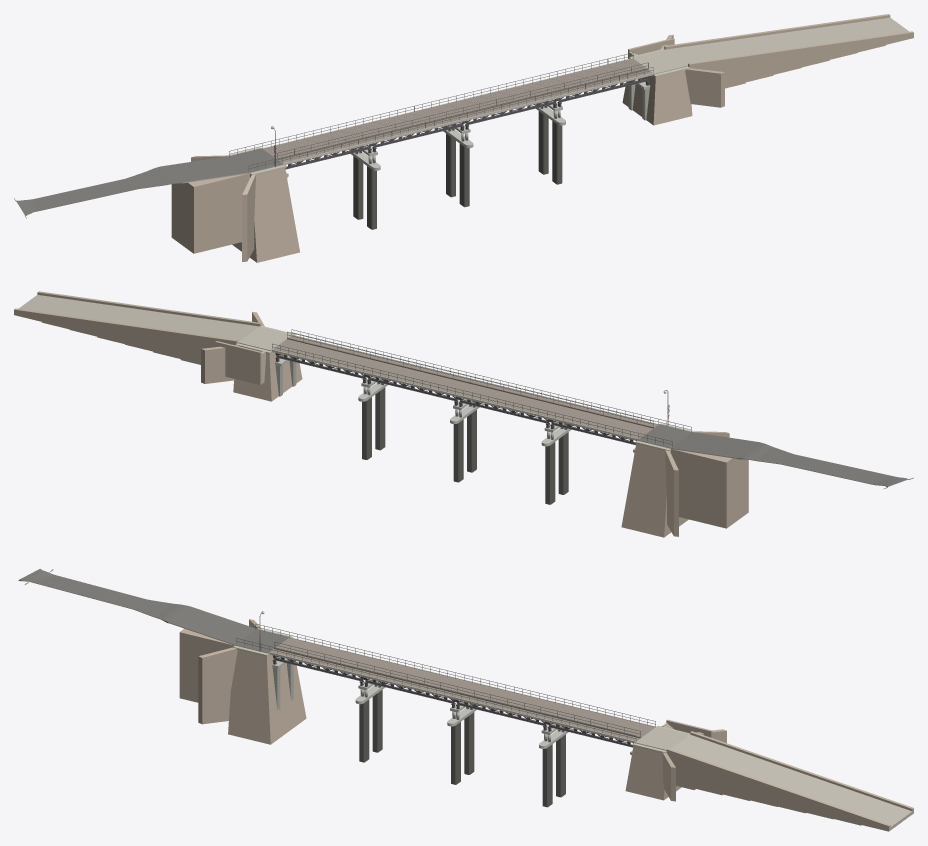
File: pont_segre.glb
3 renders of one model, top to bottom at view 1: azimuth 30°, elevation 25°; view 2: azimuth 150°, elevation 25°; view 3: azimuth 330°, elevation 25°, orthographic.
Parts seen in each view (by area): view 1: PontSegre_Estribos, PontSegre_Tablero_tablones, PontSegre_Acceso_della_muros, PontSegre_Acceso_della, PontSegre_Pilas_cajones, PontSegre_Barandillas, HIP_PontSegre_acceso_recto_T, PontSegre_Acceso_pueblo, PontSegre_Tablero_borde, PontSegre_Celosia_cordones, PontSegre_Tablero_bordillo, PontSegre_Pilas_losas; view 2: PontSegre_Estribos, PontSegre_Tablero_tablones, PontSegre_Acceso_della_muros, PontSegre_Acceso_della, PontSegre_Pilas_cajones, PontSegre_Barandillas, HIP_PontSegre_acceso_recto_T, PontSegre_Acceso_pueblo, PontSegre_Tablero_borde, PontSegre_Celosia_cordones, PontSegre_Tablero_bordillo, PontSegre_Pilas_losas; view 3: PontSegre_Estribos, PontSegre_Tablero_tablones, PontSegre_Acceso_della_muros, PontSegre_Acceso_della, PontSegre_Pilas_cajones, PontSegre_Barandillas, PontSegre_Acceso_pueblo, HIP_PontSegre_acceso_recto_T, PontSegre_Tablero_borde, PontSegre_Celosia_cordones, PontSegre_Tablero_bordillo, PontSegre_Pilas_losas.
Part boxes in pixels (box(x1,y1,x2,y2)): PontSegre_Estribos: box(171, 34, 724, 262); PontSegre_Tablero_tablones: box(263, 58, 652, 162); PontSegre_Acceso_della_muros: box(628, 14, 913, 88); PontSegre_Acceso_della: box(632, 17, 908, 74); PontSegre_Pilas_cajones: box(353, 111, 562, 229); PontSegre_Barandillas: box(229, 52, 653, 171); HIP_PontSegre_acceso_recto_T: box(16, 166, 182, 214); PontSegre_Acceso_pueblo: box(161, 148, 283, 183); PontSegre_Tablero_borde: box(263, 58, 653, 164); PontSegre_Celosia_cordones: box(285, 78, 648, 169); PontSegre_Tablero_bordillo: box(277, 68, 648, 160); PontSegre_Pilas_losas: box(350, 104, 565, 170); PontSegre_Estribos: box(201, 311, 748, 537); PontSegre_Tablero_tablones: box(273, 335, 657, 438); PontSegre_Acceso_della_muros: box(14, 291, 261, 385); PontSegre_Acceso_della: box(18, 295, 292, 350); PontSegre_Pilas_cajones: box(362, 387, 568, 504); PontSegre_Barandillas: box(272, 329, 691, 446); HIP_PontSegre_acceso_recto_T: box(738, 442, 908, 486); PontSegre_Acceso_pueblo: box(637, 424, 759, 458); PontSegre_Tablero_borde: box(271, 334, 658, 440); PontSegre_Celosia_cordones: box(276, 355, 635, 444); PontSegre_Tablero_bordillo: box(287, 337, 653, 428); PontSegre_Pilas_losas: box(358, 380, 572, 446); PontSegre_Estribos: box(179, 619, 726, 801); PontSegre_Tablero_tablones: box(270, 638, 655, 741); PontSegre_Acceso_della_muros: box(666, 719, 913, 831); PontSegre_Acceso_della: box(635, 726, 912, 829); PontSegre_Pilas_cajones: box(359, 690, 565, 807); PontSegre_Barandillas: box(236, 624, 655, 741); PontSegre_Acceso_pueblo: box(168, 606, 289, 653); HIP_PontSegre_acceso_recto_T: box(19, 569, 189, 622); PontSegre_Tablero_borde: box(269, 637, 655, 743); PontSegre_Celosia_cordones: box(273, 658, 633, 747); PontSegre_Tablero_bordillo: box(274, 647, 640, 738); PontSegre_Pilas_losas: box(355, 681, 569, 748).
Size of the model in its own units: 158 by 21.54 by 16.2.
8 materials, 8 textured.
